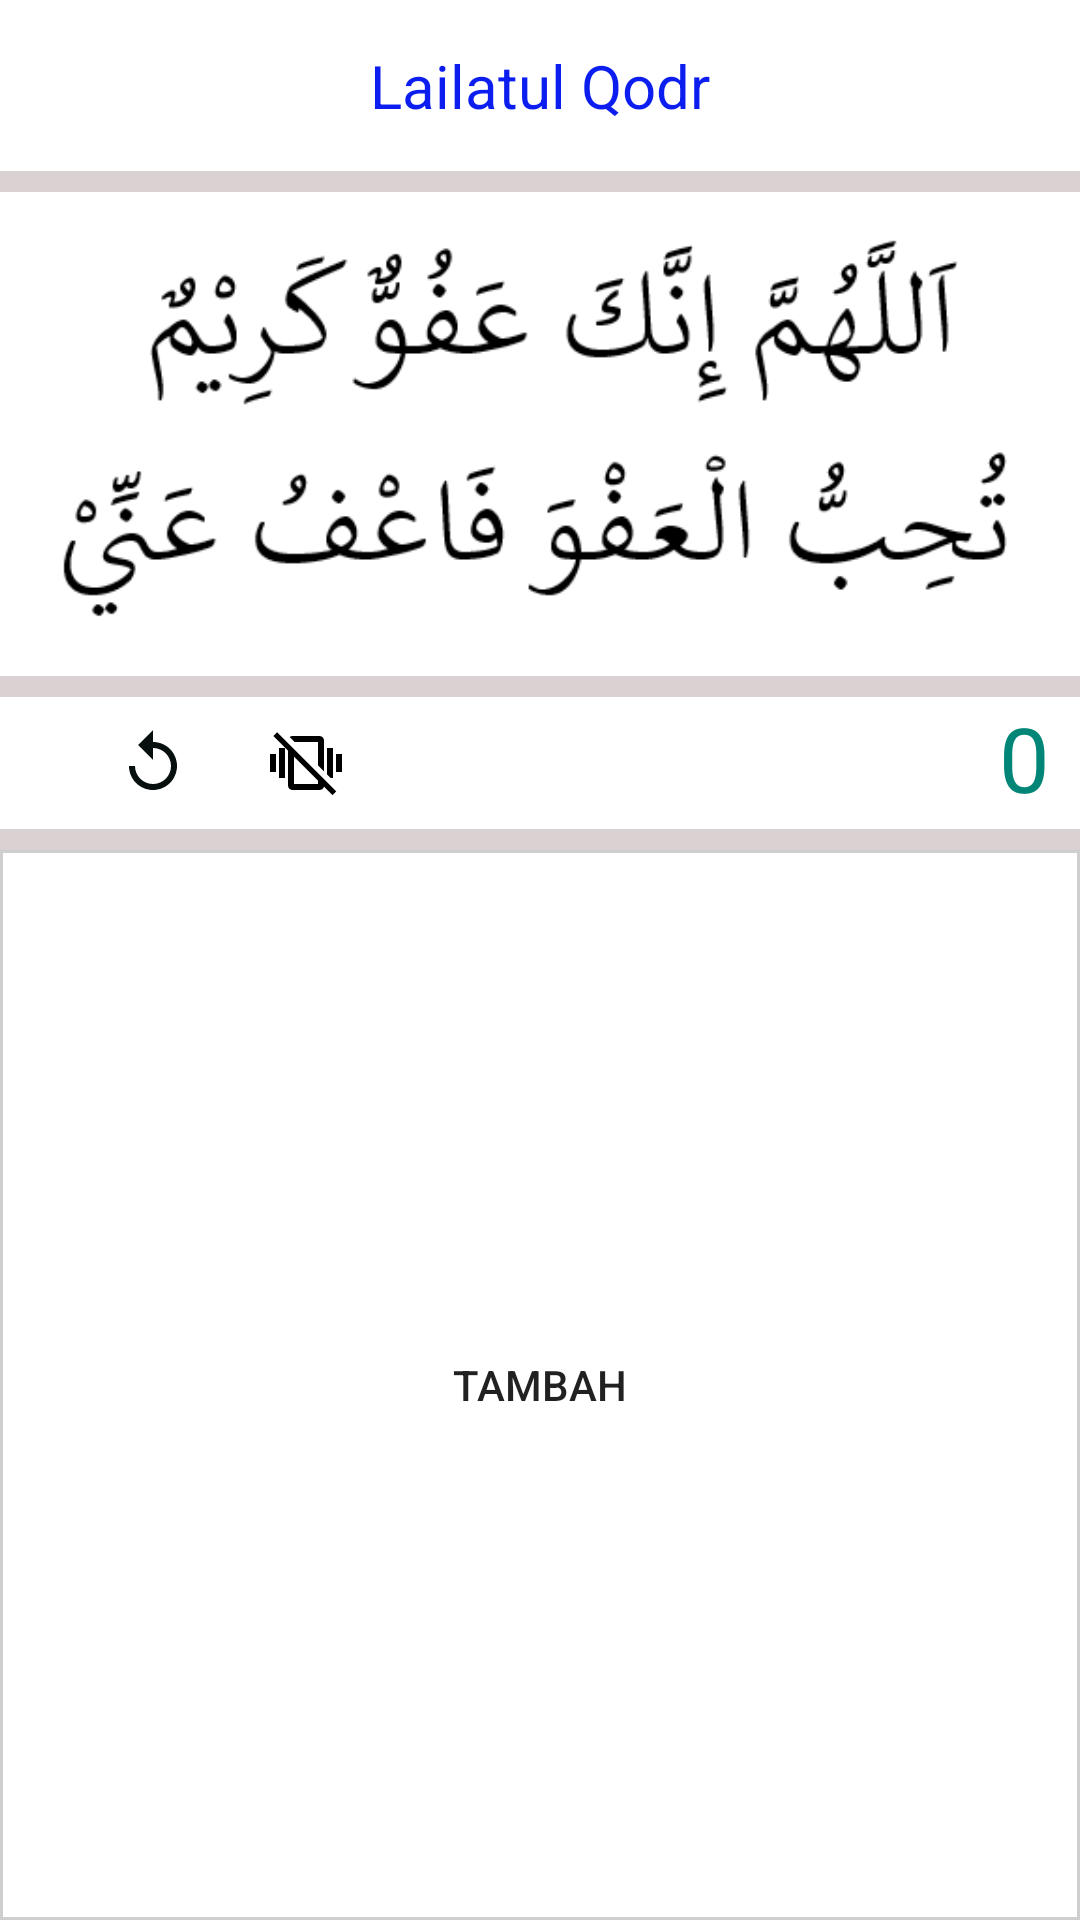

Where icons sit on this 1080 × 1920 app screen, as [x1, y1, x2, y2]:
replay: [129, 730, 177, 790]
vibrate off: [270, 732, 342, 795]
